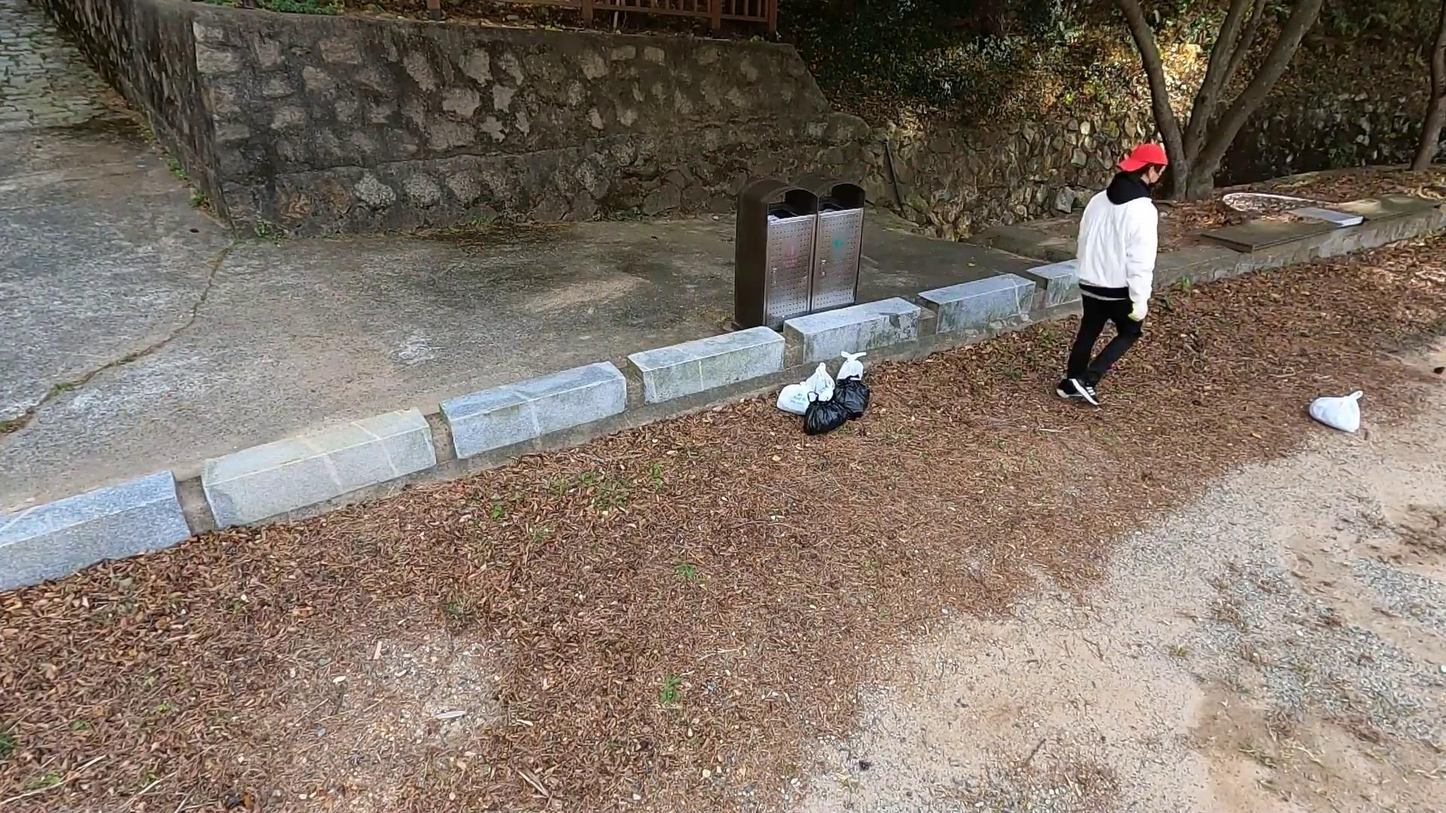person: (1051, 143, 1174, 419)
trash: (1303, 387, 1367, 438), (774, 374, 820, 416), (830, 375, 871, 421), (802, 394, 845, 435), (835, 346, 865, 389), (806, 358, 835, 402)
